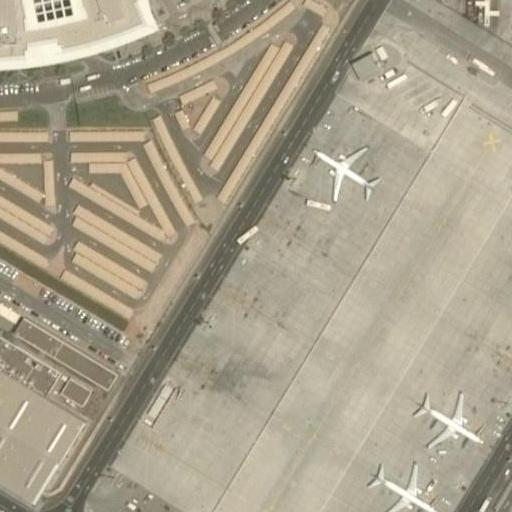Aircraft: (308, 133, 381, 208), (414, 386, 482, 444), (367, 463, 439, 512)
